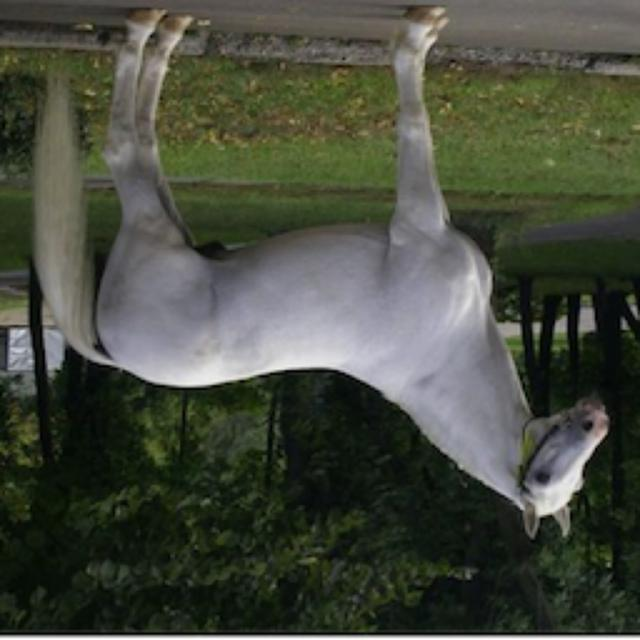Horse: (22, 2, 616, 546)
